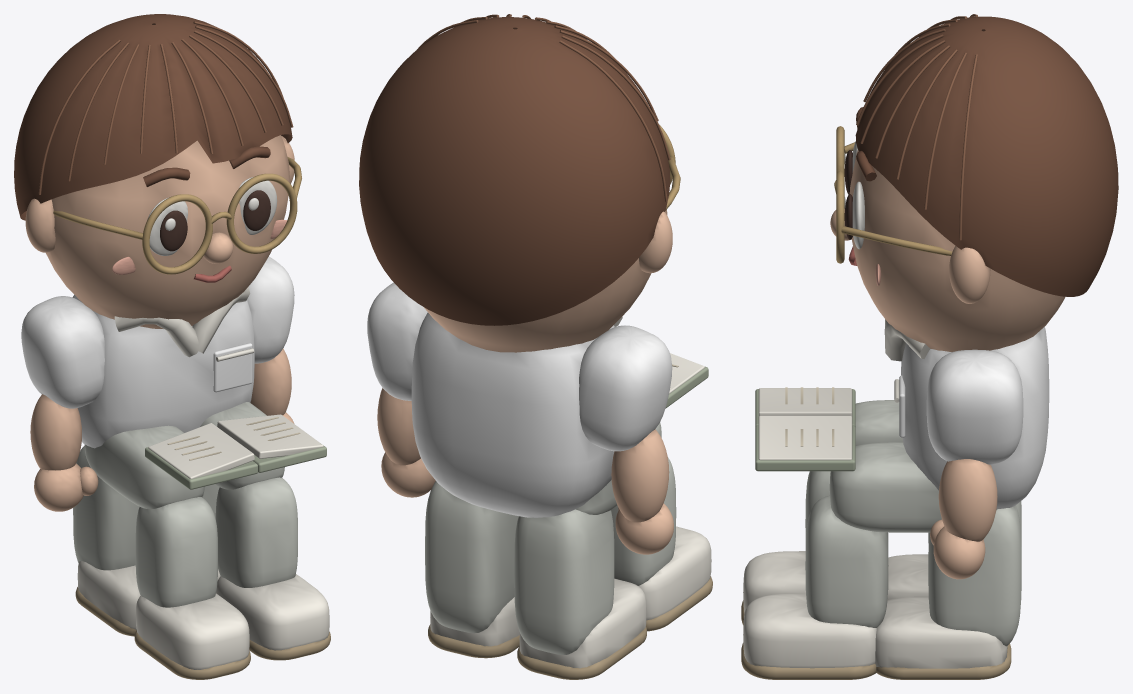
Rendered from patient.glb.
3 renders of one model, left to right at view 1: azimuth 30°, elevation 25°; view 2: azimuth 150°, elevation 25°; view 3: azimuth 270°, elevation 25°, orthographic. The views are drawn at different scales.
Visible parts, largest first — view 1: Head mesh, SeatedLegs mesh, Torso mesh, Arm_L mesh, Book mesh, Leg_L mesh, Arm_R mesh, Glasses mesh; view 2: Head mesh, Torso mesh, Leg_L mesh, Arm_L mesh, Leg_R mesh, Arm_R mesh, SeatedLegs mesh, Book mesh, Glasses mesh; view 3: Head mesh, SeatedLegs mesh, Arm_R mesh, Leg_R mesh, Torso mesh, Book mesh, Glasses mesh, Leg_L mesh.
Part boxes in pixels (x1,y1,x2,y2): Head mesh: (14, 14, 294, 328); SeatedLegs mesh: (85, 402, 330, 679); Torso mesh: (72, 287, 254, 448); Arm_L mesh: (21, 296, 104, 511); Book mesh: (145, 414, 326, 489); Leg_L mesh: (73, 445, 140, 636); Arm_R mesh: (247, 256, 294, 423); Glasses mesh: (53, 157, 301, 274); Head mesh: (359, 14, 672, 352); Torso mesh: (411, 312, 622, 517); Leg_L mesh: (514, 509, 646, 679); Arm_L mesh: (579, 325, 673, 554); Leg_R mesh: (425, 481, 519, 658); Arm_R mesh: (367, 282, 435, 497); SeatedLegs mesh: (576, 422, 712, 631); Book mesh: (665, 353, 708, 408); Glasses mesh: (659, 124, 680, 210); Head mesh: (830, 14, 1118, 351); SeatedLegs mesh: (741, 400, 997, 679); Arm_R mesh: (926, 349, 1023, 579); Leg_R mesh: (875, 505, 1021, 679); Torso mesh: (884, 319, 1049, 508); Book mesh: (755, 387, 855, 471); Glasses mesh: (834, 126, 952, 263); Leg_L mesh: (887, 501, 1021, 600).
Bounding box in the file's own units: 0.96 × 1.96 × 1.09.
